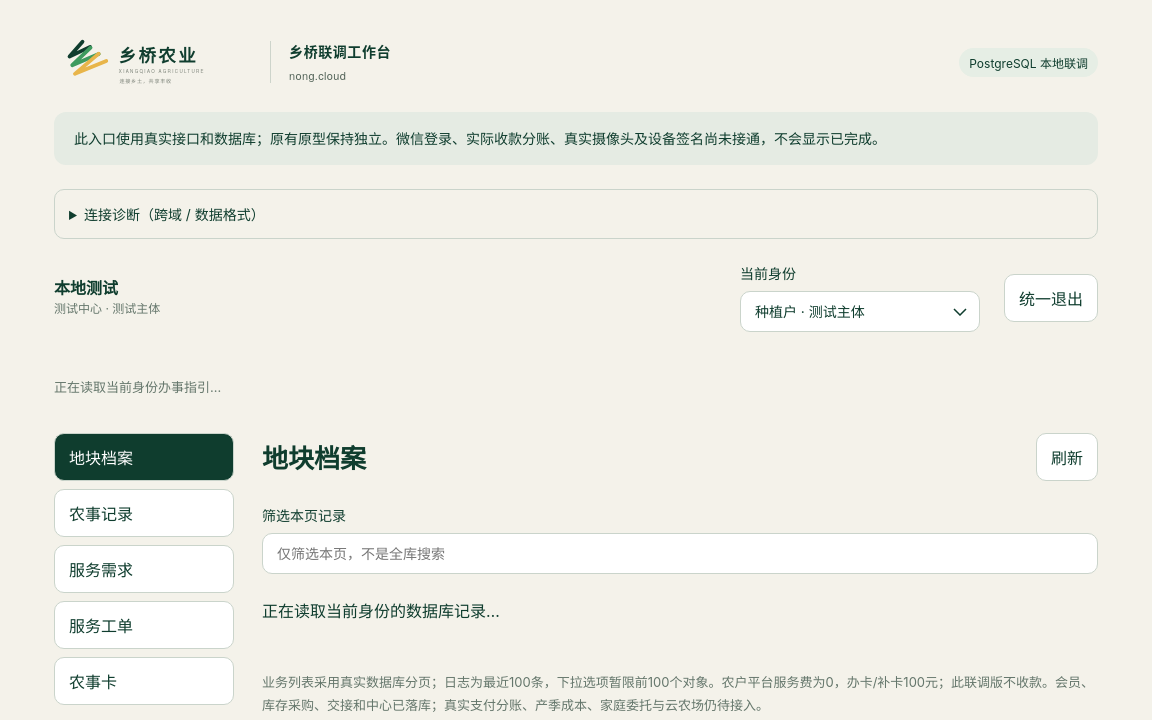
Scenario: manual record metadata includes note, source and UTC time
Expected: the heading "地块档案" is shown, [262, 438, 366, 475]
Click the button "农事记录" at {"x": 144, "y": 513}, box [54, 489, 234, 537]
(page scrolled)
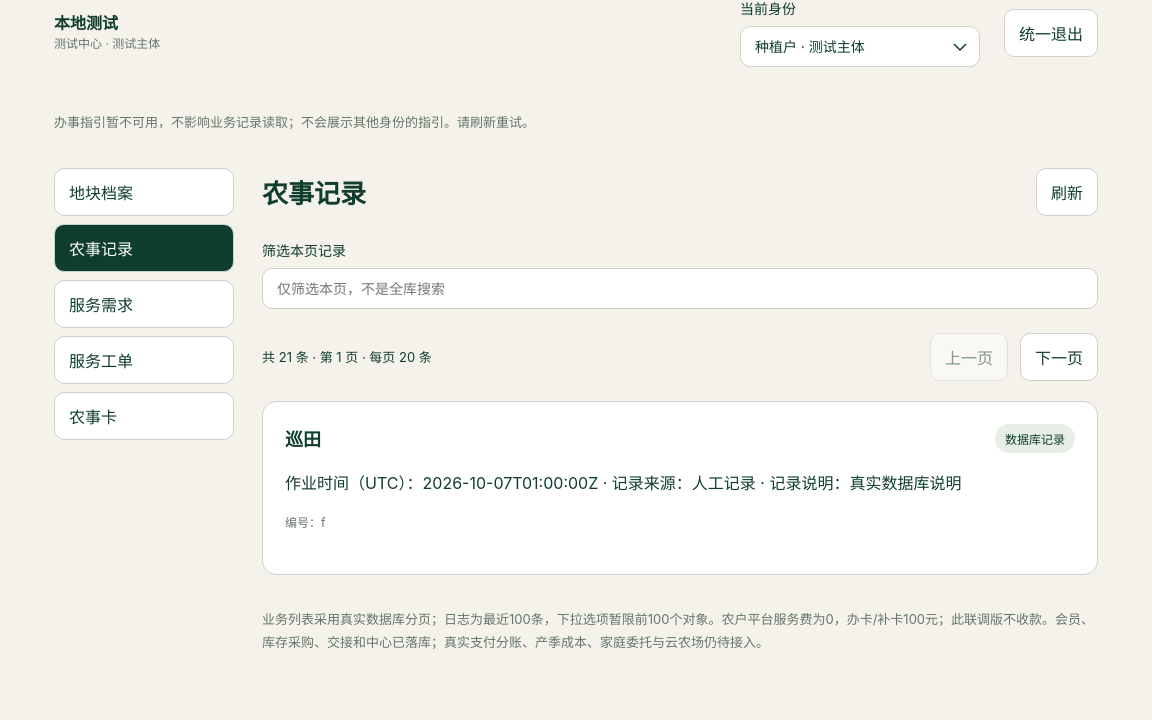
Now the text "作业时间（UTC）：2026-10-07T01:00:00Z · 记录来源：人工记录 · 记录说明：真实数据库说明" is shown, box [285, 469, 1075, 497]
